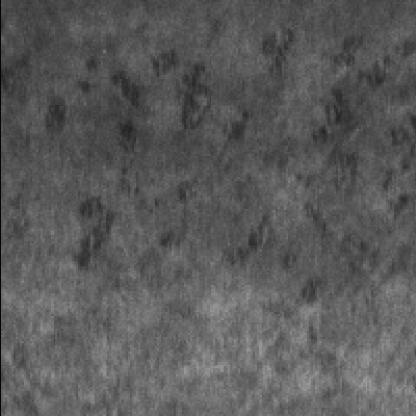rolled-in_scale: (136, 27, 412, 250), (36, 34, 208, 300), (214, 235, 391, 397)
